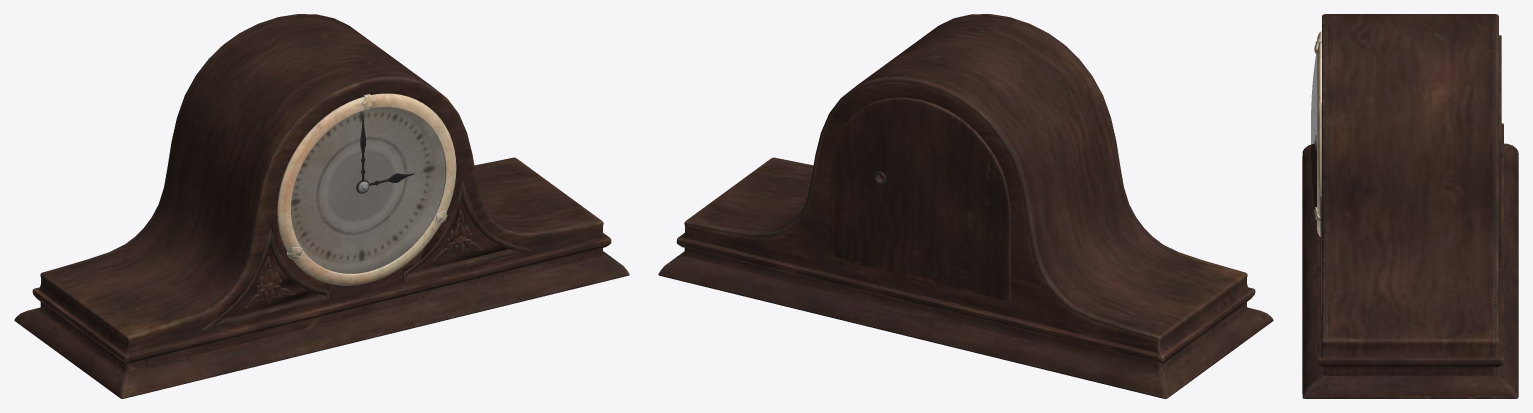
The model's file is clock-mantel.d1dcb11c.glb.
3 renders of one model, left to right at view 1: azimuth 30°, elevation 25°; view 2: azimuth 150°, elevation 25°; view 3: azimuth 270°, elevation 25°, orthographic.
Parts seen in each view (by area): view 1: model; view 2: model; view 3: model.
Part boxes in pixels (box(x1,y1,x2,y2)): model: box(14, 14, 629, 398); model: box(658, 14, 1273, 398); model: box(1302, 14, 1518, 398).
Size of the model in its own units: 0.3423 by 0.1605 by 0.1262.
Materials: 2 (2 with a texture image).
